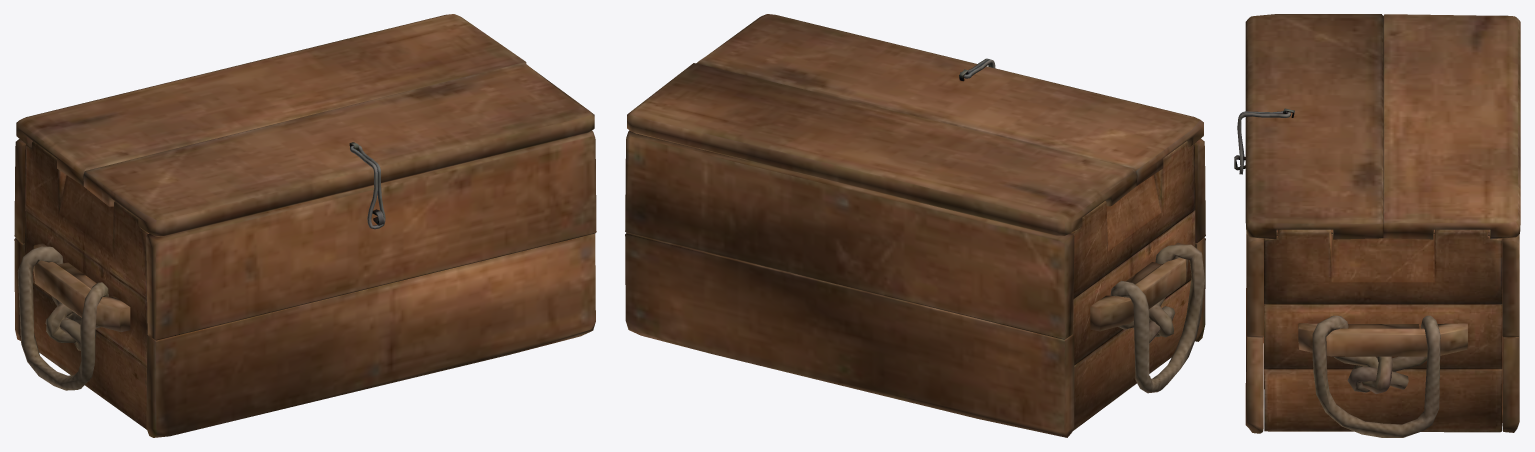
File: wooden_crate_01.glb
3 views of the same model, side by side, from view 1: azimuth 30°, elevation 25°; view 2: azimuth 150°, elevation 25°; view 3: azimuth 270°, elevation 25° (orthographic). The views are drawn at different scales.
Parts seen in each view (by area): view 1: wooden_crate_01, wooden_crate_01_lid, wooden_crate_01_latch; view 2: wooden_crate_01, wooden_crate_01_lid; view 3: wooden_crate_01_lid, wooden_crate_01, wooden_crate_01_latch.
Boxes of the visible parts, x1,y1,x2,y2 form: wooden_crate_01: (14, 131, 596, 437); wooden_crate_01_lid: (16, 14, 594, 236); wooden_crate_01_latch: (350, 145, 385, 229); wooden_crate_01: (625, 130, 1205, 437); wooden_crate_01_lid: (627, 14, 1203, 236); wooden_crate_01_lid: (1245, 14, 1520, 239); wooden_crate_01: (1234, 155, 1519, 437); wooden_crate_01_latch: (1237, 111, 1290, 174).
Bounding box in the file's own units: 0.8245 × 0.3471 × 0.4069.
1 material, 1 textured.
